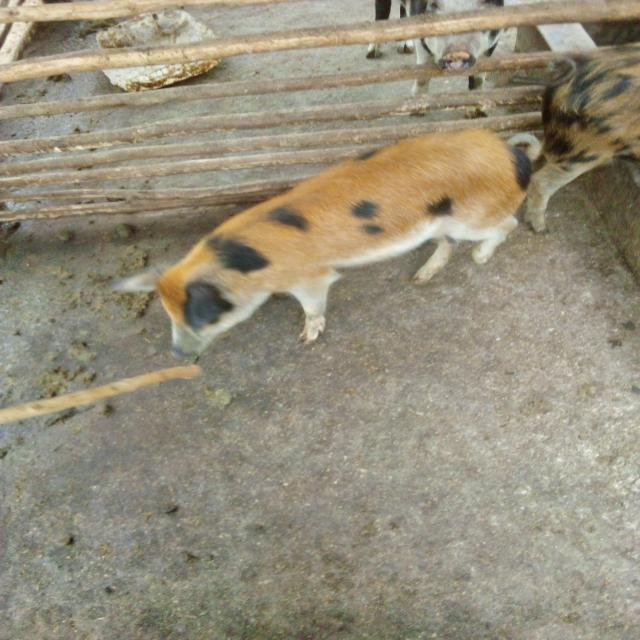pig: (61, 65, 616, 412)
